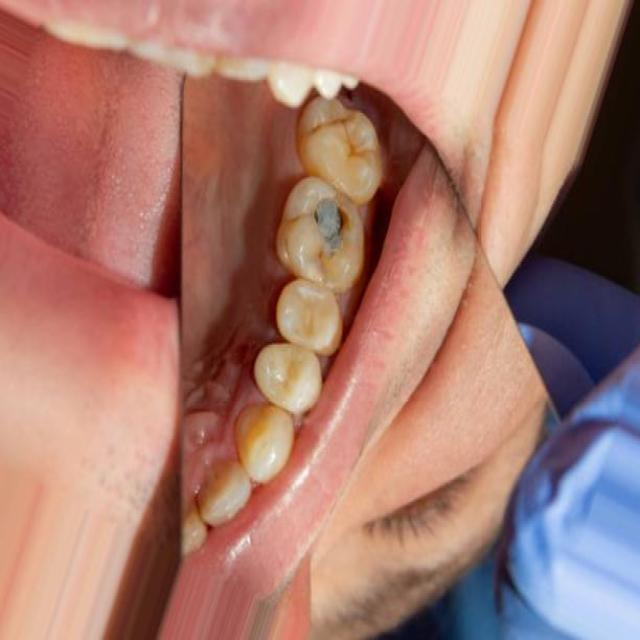caries: (299, 182, 356, 264)
